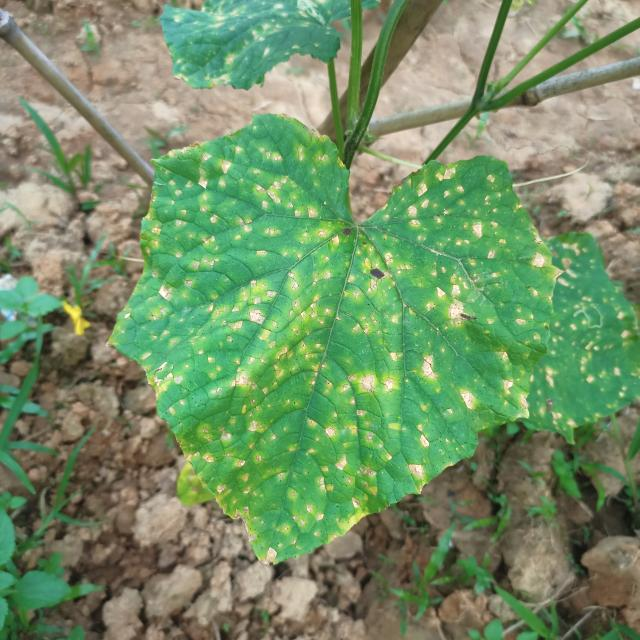disease_cucumber: (123, 130, 544, 537), (542, 239, 640, 419)
